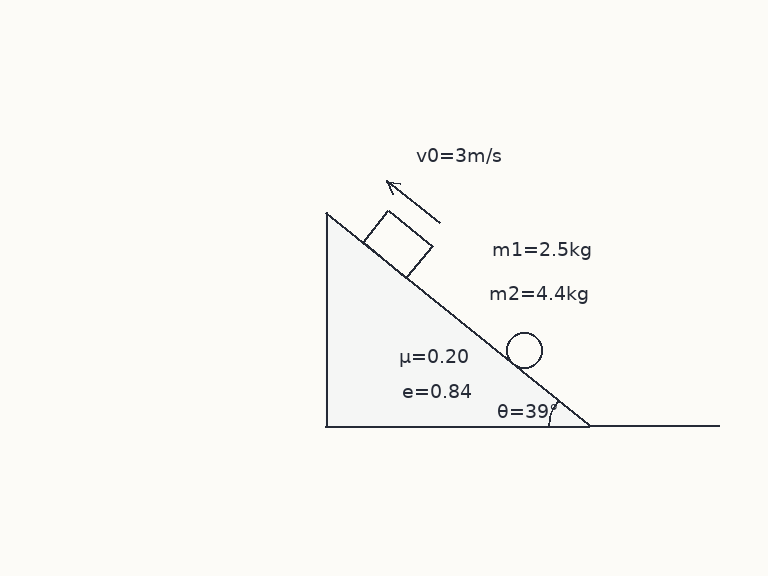ball: (504, 330, 544, 370)
block: (360, 209, 433, 280)
ramp: (324, 211, 591, 428)
